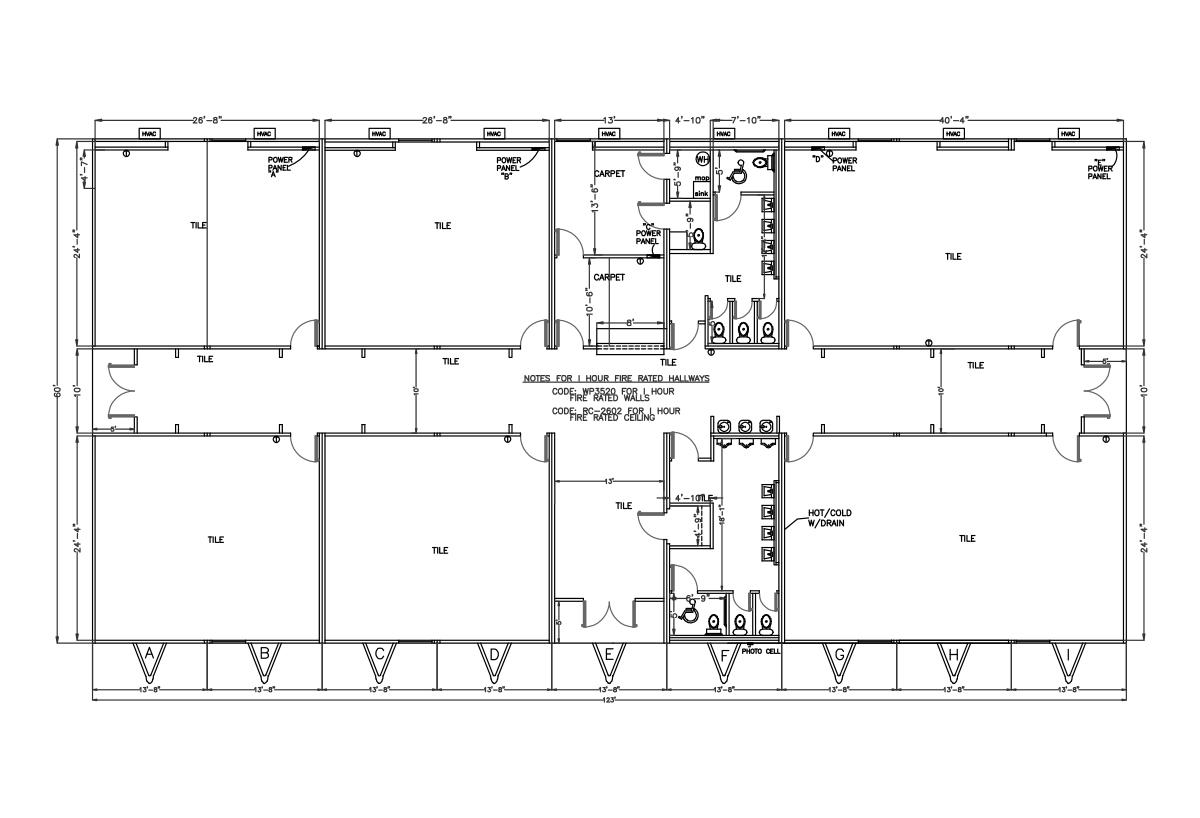room: (782, 434, 1125, 642), (781, 141, 1125, 347), (321, 139, 551, 348), (94, 139, 323, 347), (93, 434, 322, 642), (321, 435, 549, 641), (665, 434, 778, 640)
